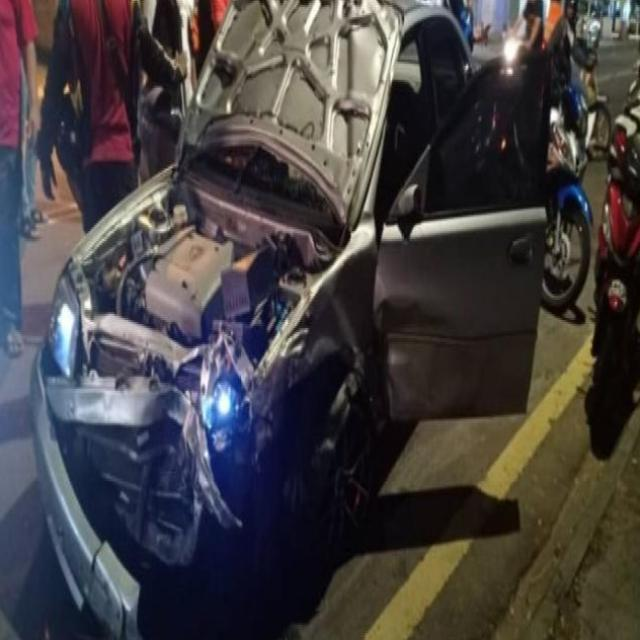accident: (24, 67, 400, 553)
